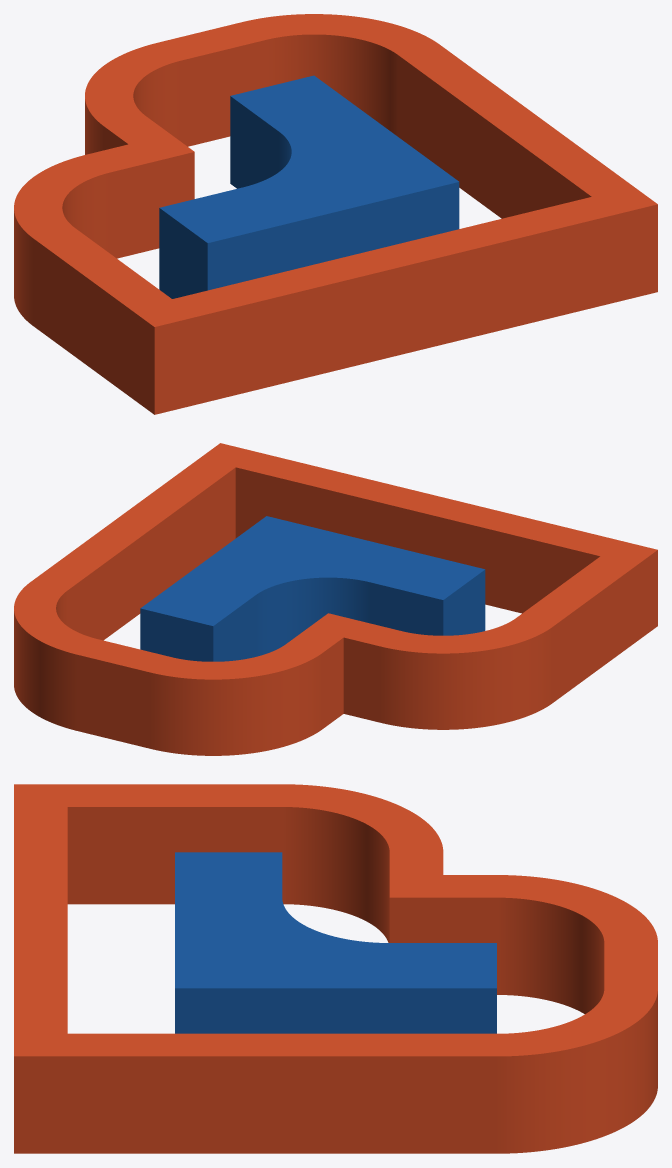
Rendered from heart.dae.
3 renders of one model, top to bottom at view 1: azimuth 30°, elevation 25°; view 2: azimuth 150°, elevation 25°; view 3: azimuth 270°, elevation 25°, orthographic. The views are drawn at different scales.
Parts seen in each view (by area): view 1: 5af6163d3edc8c0f9c57dcc9 (×2); view 2: 5af6163d3edc8c0f9c57dcc9 (×2); view 3: 5af6163d3edc8c0f9c57dcc9 (×2).
Boxes of the visible parts, x1,y1,x2,y2 form: 5af6163d3edc8c0f9c57dcc9 (×2): [14, 14, 657, 414]; 5af6163d3edc8c0f9c57dcc9 (×2): [14, 443, 657, 755]; 5af6163d3edc8c0f9c57dcc9 (×2): [14, 784, 657, 1153].
Size of the model in its own units: 6 by 6 by 1.
